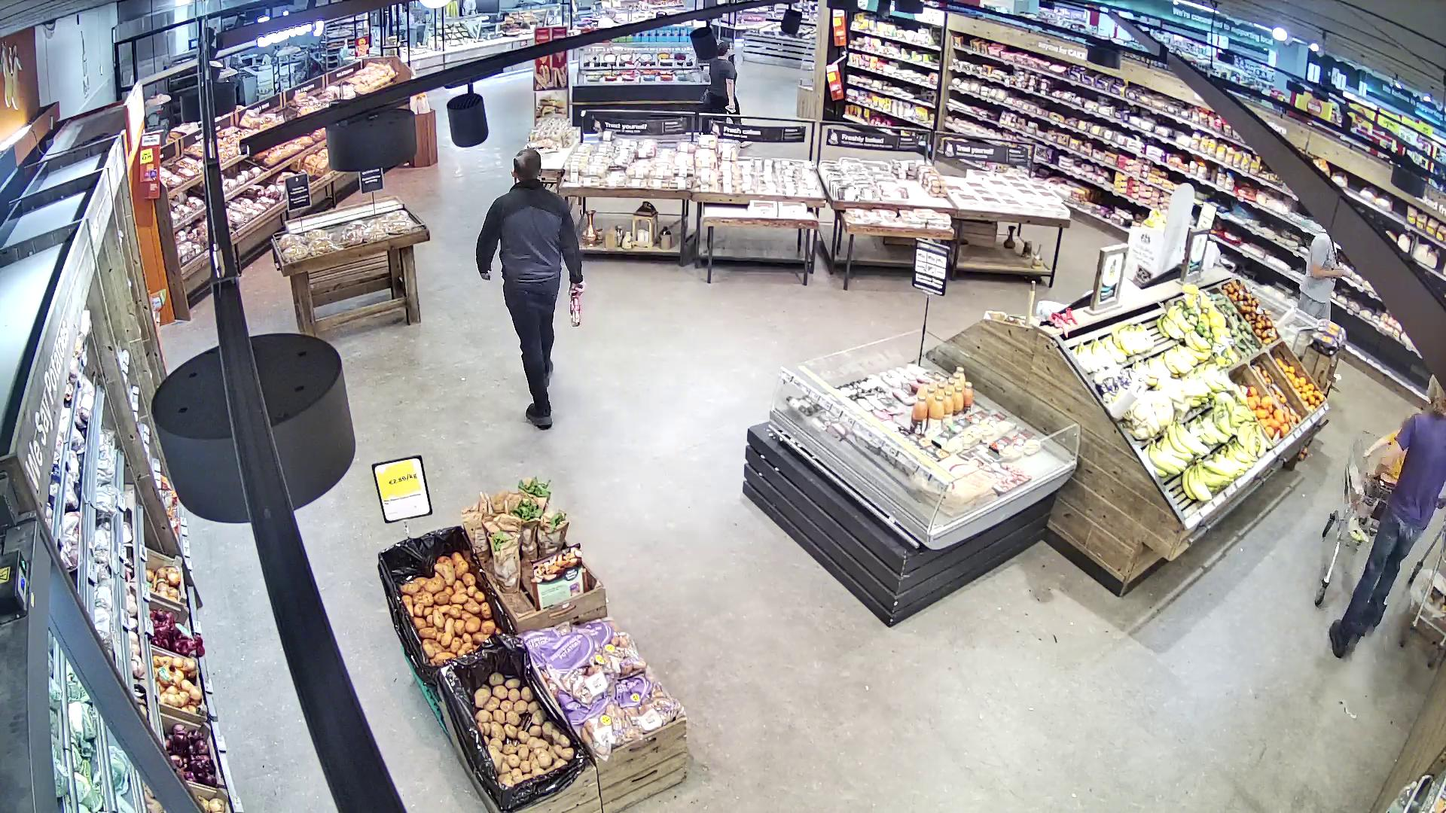person: (476, 148, 583, 429)
person-with-carrying-item: (475, 147, 586, 429)
